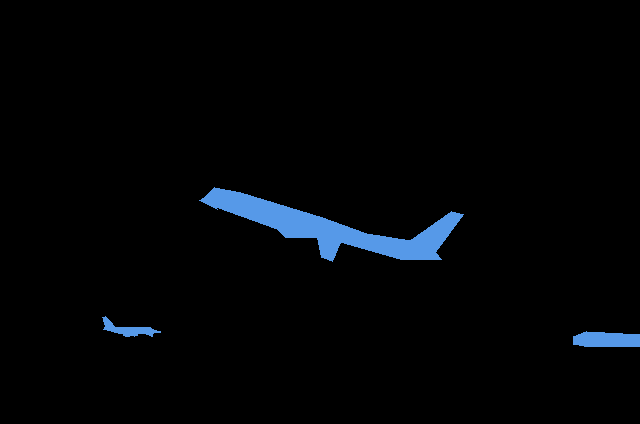Airplane: (199, 187, 464, 262), (102, 316, 160, 337), (573, 331, 640, 347)
